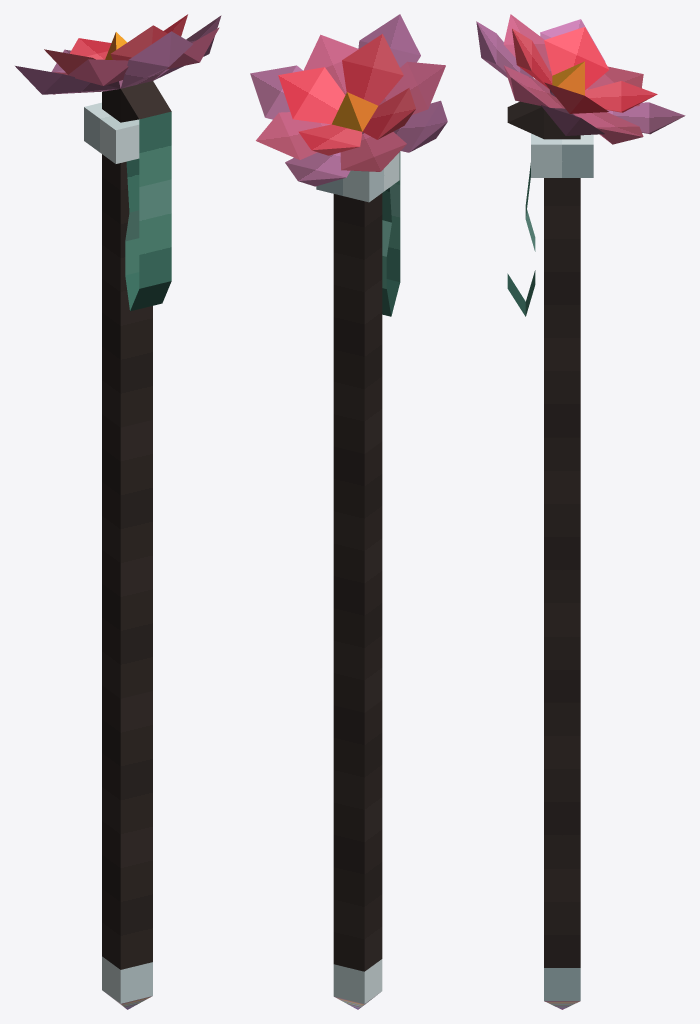
Rendered from staff_wakebloom.obj.
The picture shows the model from 3 angles, left to right: view 1: azimuth 30°, elevation 25°; view 2: azimuth 150°, elevation 25°; view 3: azimuth 270°, elevation 25°; orthographic projection. The views are drawn at different scales.
Parts seen in each view (by area): view 1: STAFF_VAR13_Cube.010; view 2: STAFF_VAR13_Cube.010; view 3: STAFF_VAR13_Cube.010.
Part boxes in pixels (left/top/right/bottom): STAFF_VAR13_Cube.010: left=15, top=14, right=221, bottom=1009; STAFF_VAR13_Cube.010: left=250, top=14, right=447, bottom=1009; STAFF_VAR13_Cube.010: left=476, top=14, right=685, bottom=1009.
Bounding box in the file's own units: 0.3997 × 1.86 × 0.3577.
